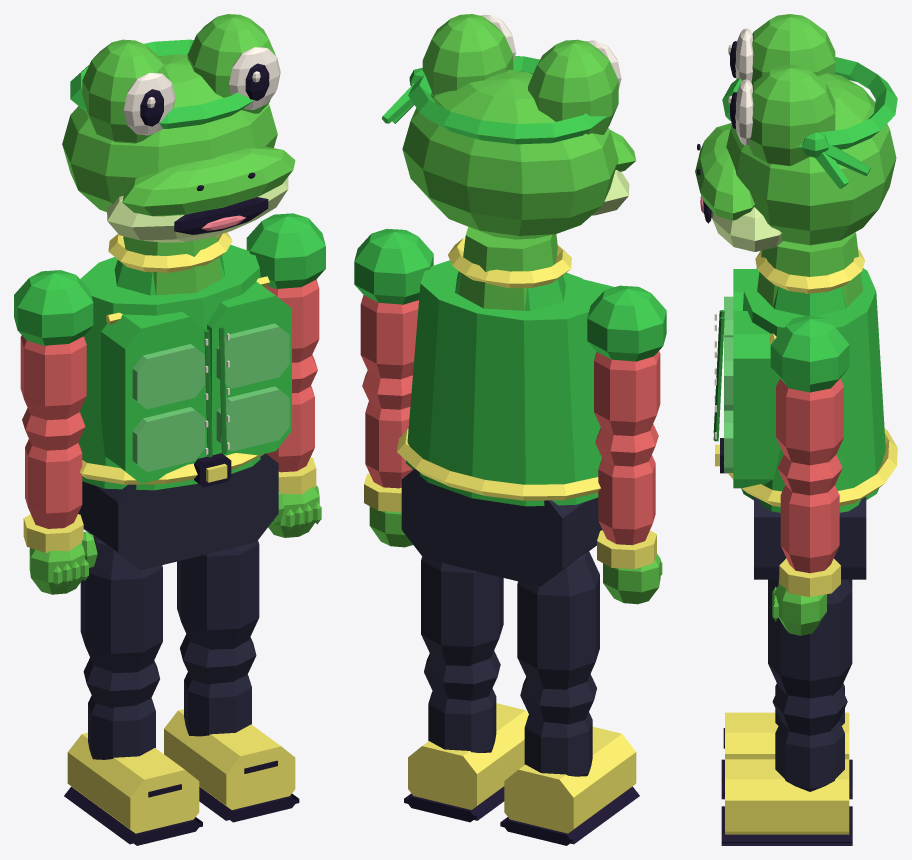
The picture shows the model from 3 angles, left to right: view 1: azimuth 30°, elevation 25°; view 2: azimuth 150°, elevation 25°; view 3: azimuth 270°, elevation 25°; orthographic projection.
Visible parts, largest first — view 1: head_fur, torso_padded_vest, torso_vest_quilt, hips_trousers, thigh_r_trousers, shin_r_trim_belt_boots, shin_l_trim_belt_boots, thigh_l_trousers, forearm_r_shirt_sleeves, shin_r_trousers, shin_l_trousers, upperarm_r_padded_vest (+18 smaller); view 2: torso_padded_vest, head_fur, hips_trousers, thigh_r_trousers, shin_r_trim_belt_boots, thigh_l_trousers, shin_l_trim_belt_boots, forearm_r_shirt_sleeves, shin_r_trousers, shin_l_trousers, torso_trim_belt_boots, head_padded_vest (+14 smaller); view 3: head_fur, torso_padded_vest, shin_l_trim_belt_boots, thigh_l_trousers, forearm_l_shirt_sleeves, shin_l_trousers, upperarm_l_shirt_sleeves, upperarm_l_padded_vest, head_padded_vest, hips_trousers, torso_trim_belt_boots, torso_fur_hands (+9 smaller).
Part boxes in pixels (x1,y1,x2,y2): head_fur: [62, 14, 295, 216]; torso_padded_vest: [78, 244, 291, 490]; torso_vest_quilt: [132, 323, 289, 472]; hips_trousers: [78, 453, 278, 570]; thigh_r_trousers: [80, 535, 162, 672]; shin_r_trim_belt_boots: [67, 732, 199, 833]; shin_l_trim_belt_boots: [164, 709, 295, 809]; thigh_l_trousers: [177, 540, 259, 649]; forearm_r_shirt_sleeves: [22, 408, 85, 528]; shin_r_trousers: [83, 657, 159, 759]; shin_l_trousers: [180, 634, 256, 736]; upperarm_r_padded_vest: [14, 270, 93, 345]; torso_padded_vest: [406, 260, 614, 506]; head_fur: [402, 14, 636, 239]; hips_trousers: [401, 469, 602, 586]; thigh_r_trousers: [517, 551, 599, 689]; shin_r_trim_belt_boots: [504, 726, 636, 833]; thigh_l_trousers: [421, 556, 503, 665]; shin_l_trim_belt_boots: [408, 703, 528, 809]; forearm_r_shirt_sleeves: [595, 424, 658, 545]; shin_r_trousers: [520, 674, 596, 776]; shin_l_trousers: [424, 650, 500, 752]; torso_trim_belt_boots: [397, 238, 600, 500]; head_padded_vest: [381, 56, 606, 144]; head_fur: [695, 14, 896, 245]; torso_padded_vest: [733, 268, 885, 512]; shin_l_trim_belt_boots: [725, 759, 849, 834]; thigh_l_trousers: [768, 579, 852, 698]; forearm_l_shirt_sleeves: [777, 454, 842, 573]; shin_l_trousers: [772, 687, 847, 791]; upperarm_l_shirt_sleeves: [776, 378, 843, 465]; upperarm_l_padded_vest: [770, 315, 849, 392]; head_padded_vest: [722, 57, 897, 188]; hips_trousers: [754, 496, 866, 579]; torso_trim_belt_boots: [715, 249, 897, 506]; torso_fur_hands: [757, 232, 862, 306].
Size of the model in its own units: 0.7607 by 1.84 by 0.4414.
